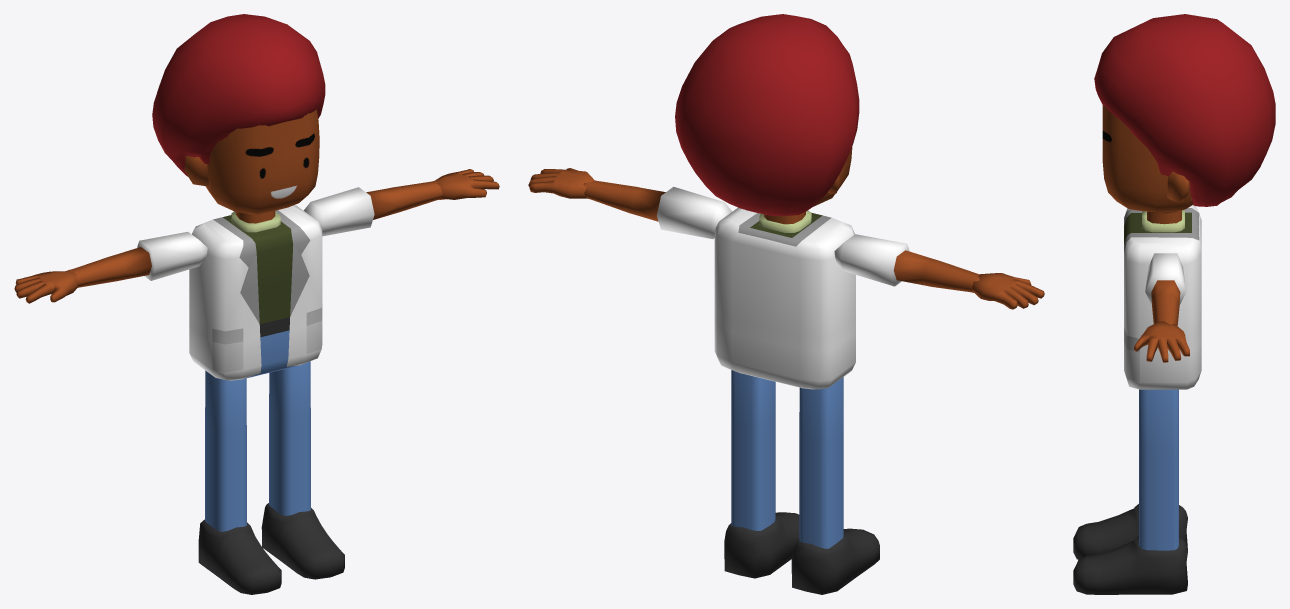
File: NPC_Yellow02_RedHair01.gltf
The picture shows the model from 3 angles, left to right: view 1: azimuth 30°, elevation 25°; view 2: azimuth 150°, elevation 25°; view 3: azimuth 270°, elevation 25°; orthographic projection. The views are drawn at different scales.
Visible parts, largest first — view 1: NPC_Corpo_Yellow2_RedHair.001; view 2: NPC_Corpo_Yellow2_RedHair.001; view 3: NPC_Corpo_Yellow2_RedHair.001.
Part boxes in pixels (<box>): NPC_Corpo_Yellow2_RedHair.001: <box>14,14,499,594</box>; NPC_Corpo_Yellow2_RedHair.001: <box>528,14,1044,594</box>; NPC_Corpo_Yellow2_RedHair.001: <box>1073,14,1275,594</box>.
Bounding box in the file's own units: 2.31 × 2.41 × 0.8168.
Materials: 1 (1 with a texture image).
